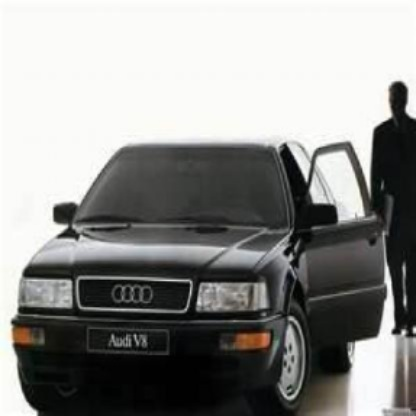Vehicle: (7, 135, 388, 409)
